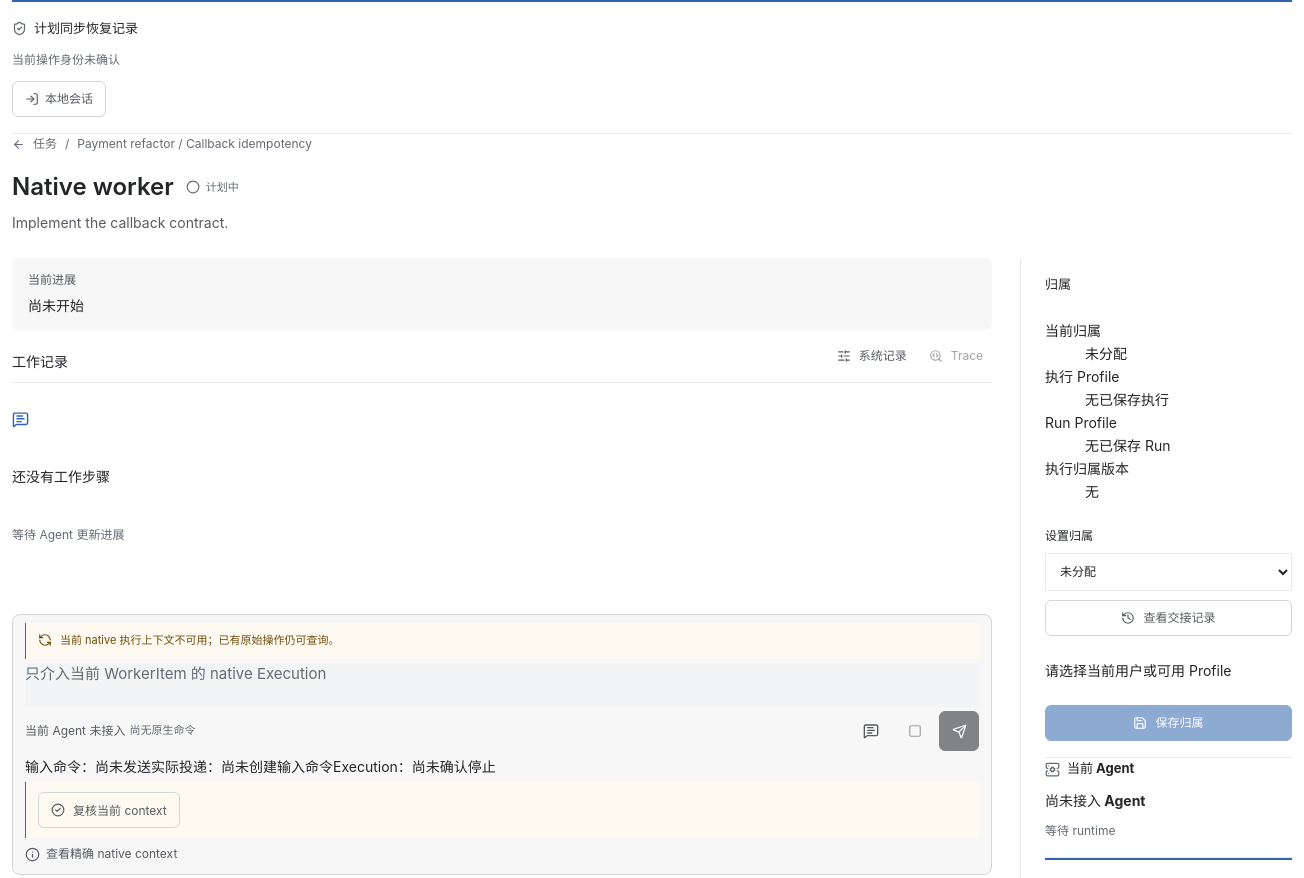
Test case: NativeWorkerAppointment › keeps the saved owner separate from execution pins and posts WorkerItem version 7 once
The image size is (1304, 878).
Expected: the text "未分配" is shown, [1085,345,1127,362]
Expected: the text "无已保存执行" is shown, [1085,391,1169,408]
Select "Reusable reviewer · R1" in the dropdown labelled "设置归属" at (1168, 572), box [1045,553,1292,591]
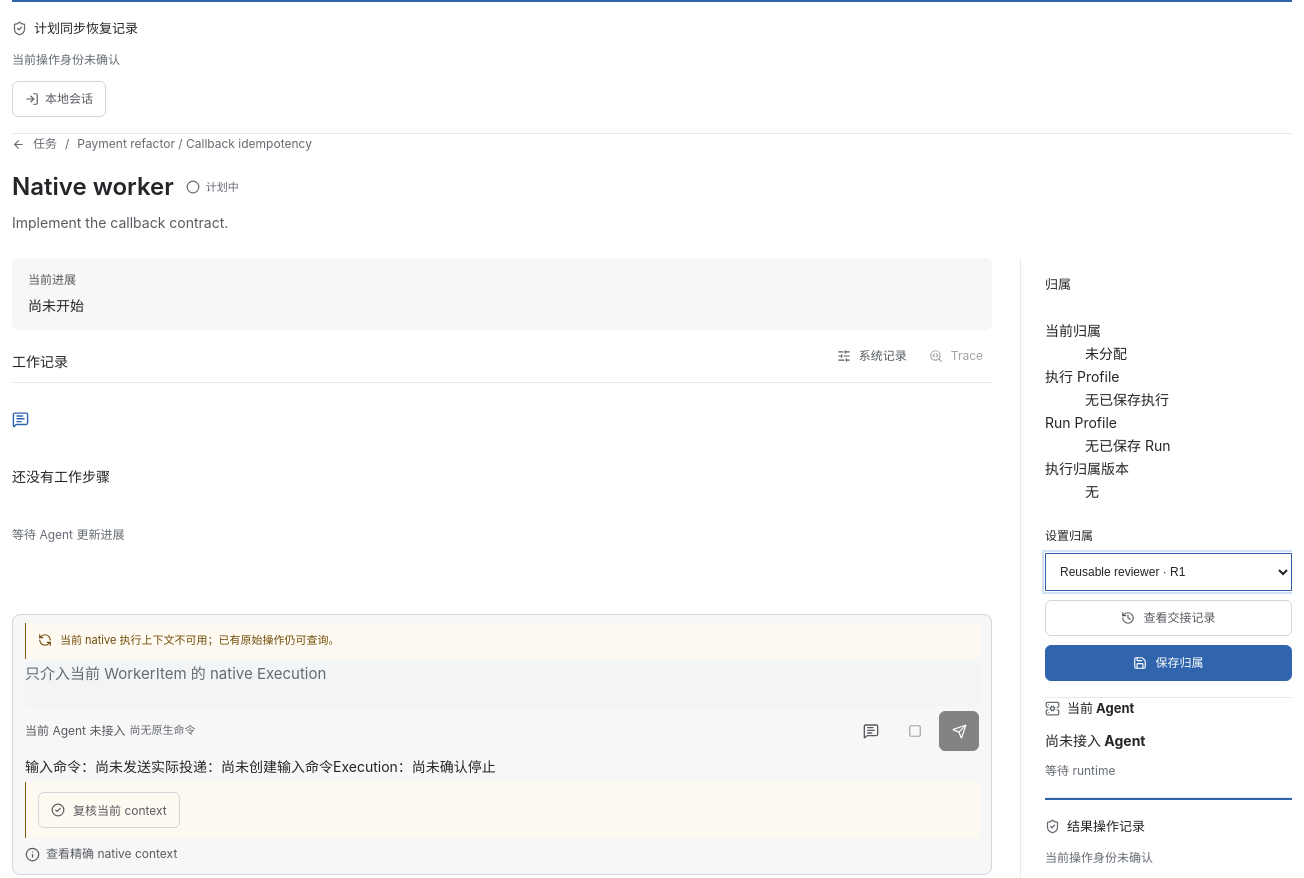
Expected: the text "未分配" is shown, [1085,345,1127,362]
Expected: the button "保存归属" is enabled
Click the button "保存归属" at (1168, 663), box [1045,645,1292,681]
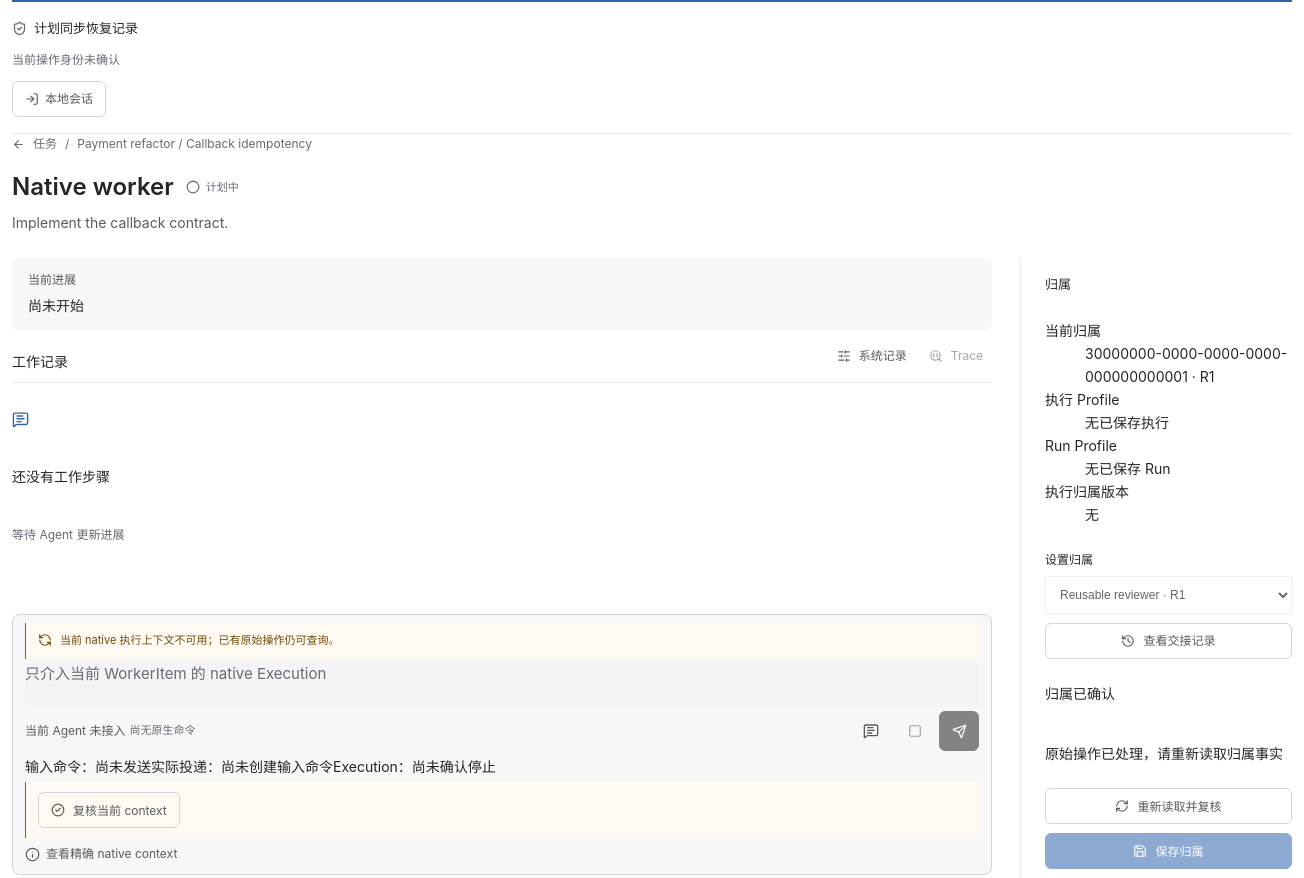
Expected: the text "归属已确认" is shown, [1045,685,1115,702]
